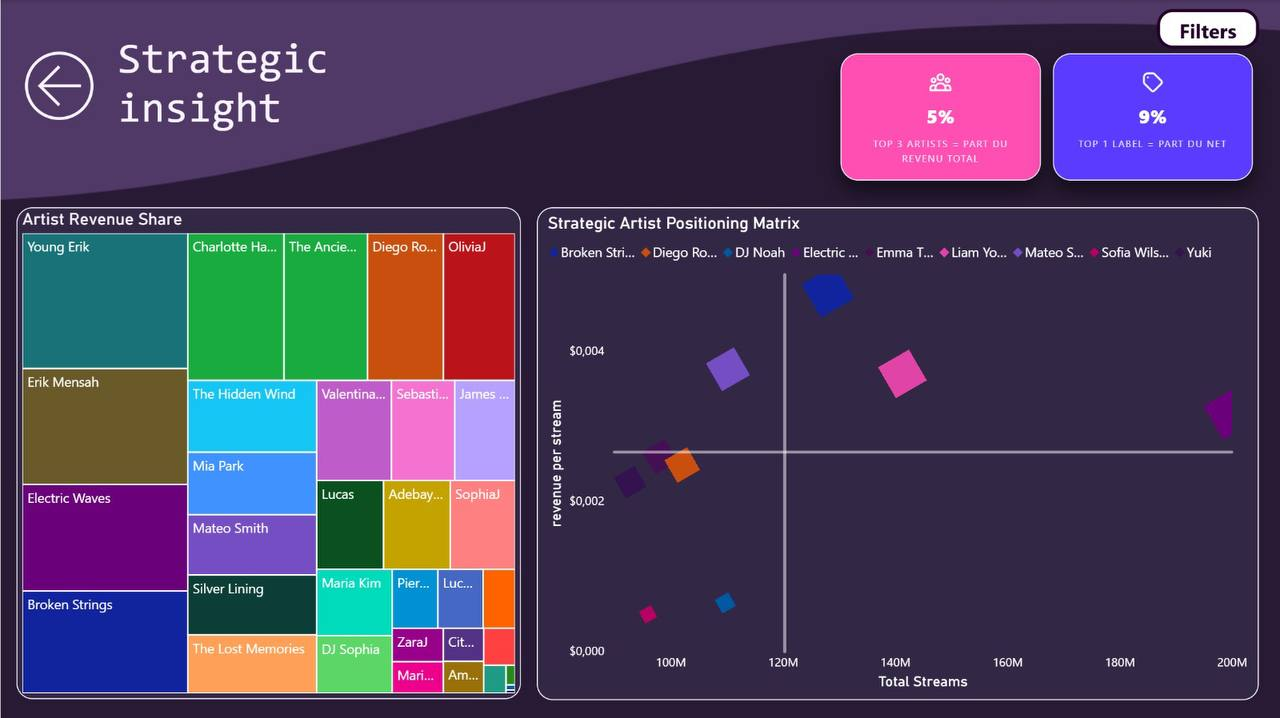

This screenshot's page, from the dashboard's own definition file:
{"tool":"powerbi","page":{"name":"Strategic Insights","canvas":[1280,720],"ordinal":5},"visuals":[{"type":"textbox","box":[112.7,28.5,406.7,114.2],"z":0},{"type":"htmlContent443BE3AD55E043BF878BED274D3A6865","fields":{"content":["_Measures.Concentration Risk HTML"]},"box":[813.4,28.5,466.6,178.4],"z":1000},{"type":"actionButton","box":[15.7,42.8,99.9,85.6],"z":2000},{"type":"actionButton","box":[1156.6,8.9,101.9,39.3],"z":3000},{"type":"scatterChart","title":"Strategic Artist Positioning Matrix","fields":{"X":["_Measures.Total Streams"],"Y":["_Measures.revenue per stream"],"Size":["_Measures.Total net royalties"],"Category":["charts_weekly.weekly_streams"],"Series":["Artists.artist_name"]},"box":[536.4,207.1,722,493.3],"z":5000},{"type":"treemap","title":"Artist Revenue Share","fields":{"Group":["Artists.artist_name"],"Values":["Artists.Revenue Share %"]},"box":[15.3,207.9,504.5,492.6],"z":6000}]}

Visuals, with their boxes in screenshot pixels (x1, y1, x2, y2), scaled from the page's 1280x720 canvas onto the 1280x718 screenshot:
textbox: (x1=113, y1=28, x2=519, y2=142)
htmlContent443BE3AD55E043BF878BED274D3A6865 - _Measures.Concentration Risk HTML: (x1=813, y1=28, x2=1279, y2=206)
actionButton: (x1=16, y1=43, x2=116, y2=128)
actionButton: (x1=1157, y1=9, x2=1258, y2=48)
"Strategic Artist Positioning Matrix" scatterChart: (x1=536, y1=207, x2=1258, y2=698)
"Artist Revenue Share" treemap: (x1=15, y1=207, x2=520, y2=699)
